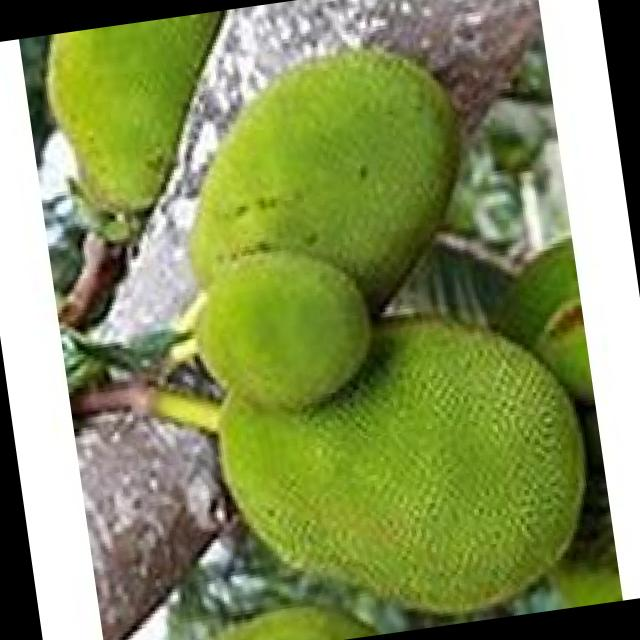Fruit: (162, 253, 619, 640), (137, 0, 514, 385)
